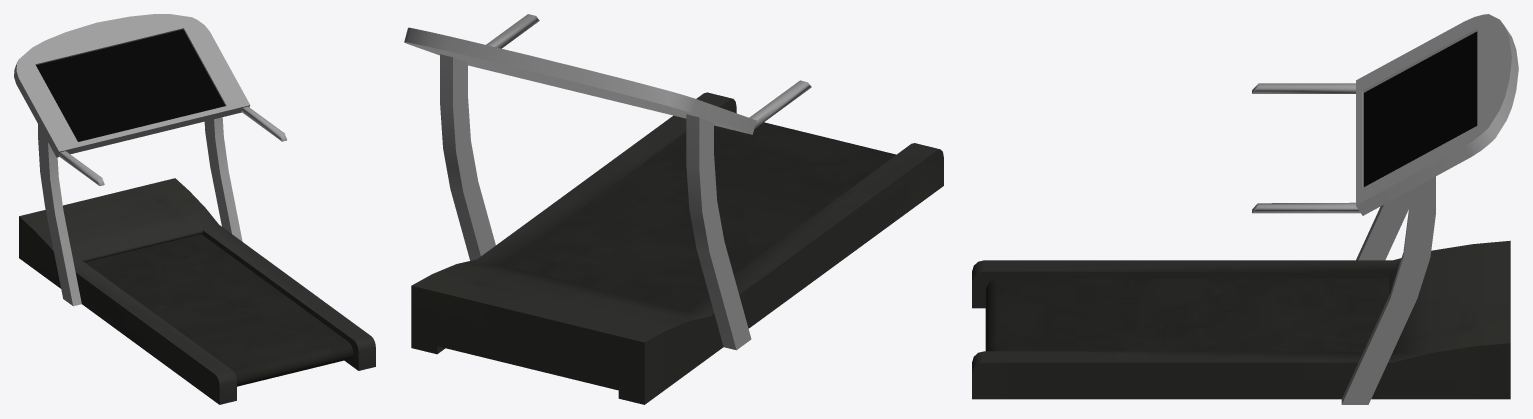
File: treadmill.glb
3 renders of one model, left to right at view 1: azimuth 30°, elevation 25°; view 2: azimuth 150°, elevation 25°; view 3: azimuth 270°, elevation 25°, orthographic. The views are drawn at different scales.
Parts seen in each view (by area): view 1: treadmill_gym_environment_0; view 2: treadmill_gym_environment_0; view 3: treadmill_gym_environment_0.
Part boxes in pixels (box(x1,y1,x2,y2)): treadmill_gym_environment_0: box(14, 14, 375, 404); treadmill_gym_environment_0: box(404, 14, 943, 404); treadmill_gym_environment_0: box(972, 14, 1518, 404).
Size of the model in its own units: 1.08 by 1.17 by 2.
1 material, 1 textured.
